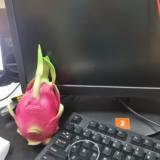pitaya: (13, 56, 62, 143)
